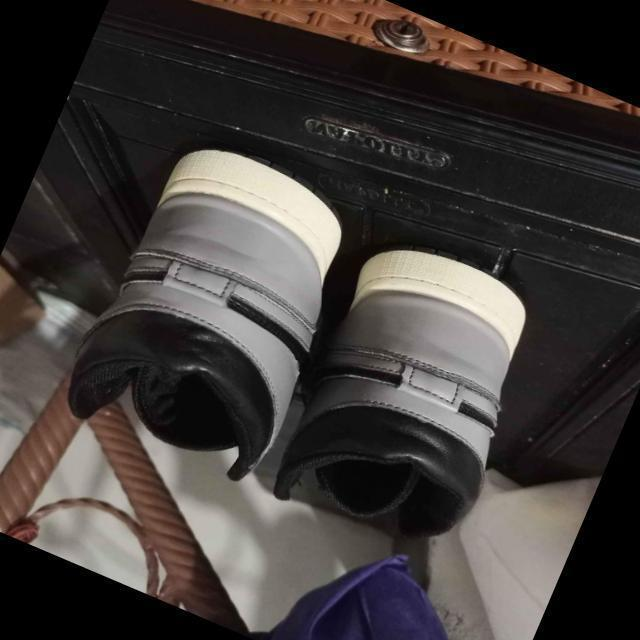nike fake jordan 1: (57, 121, 382, 493), (248, 220, 566, 578)
